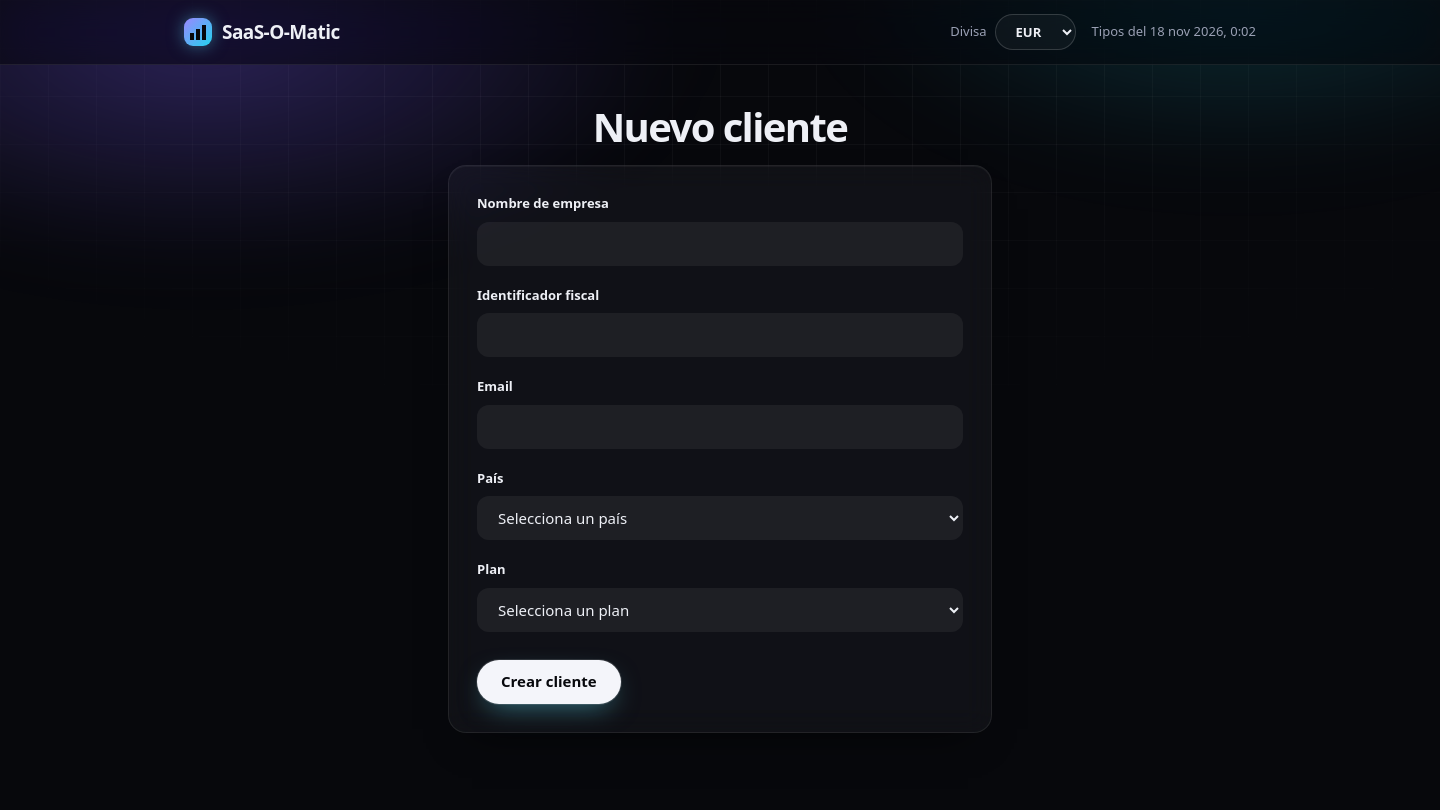
Layout › la divisa elegida persiste al navegar entre dos rutas
Select "USD" in the dropdown labelled "Divisa" at (1035, 32), box [995, 14, 1076, 50]
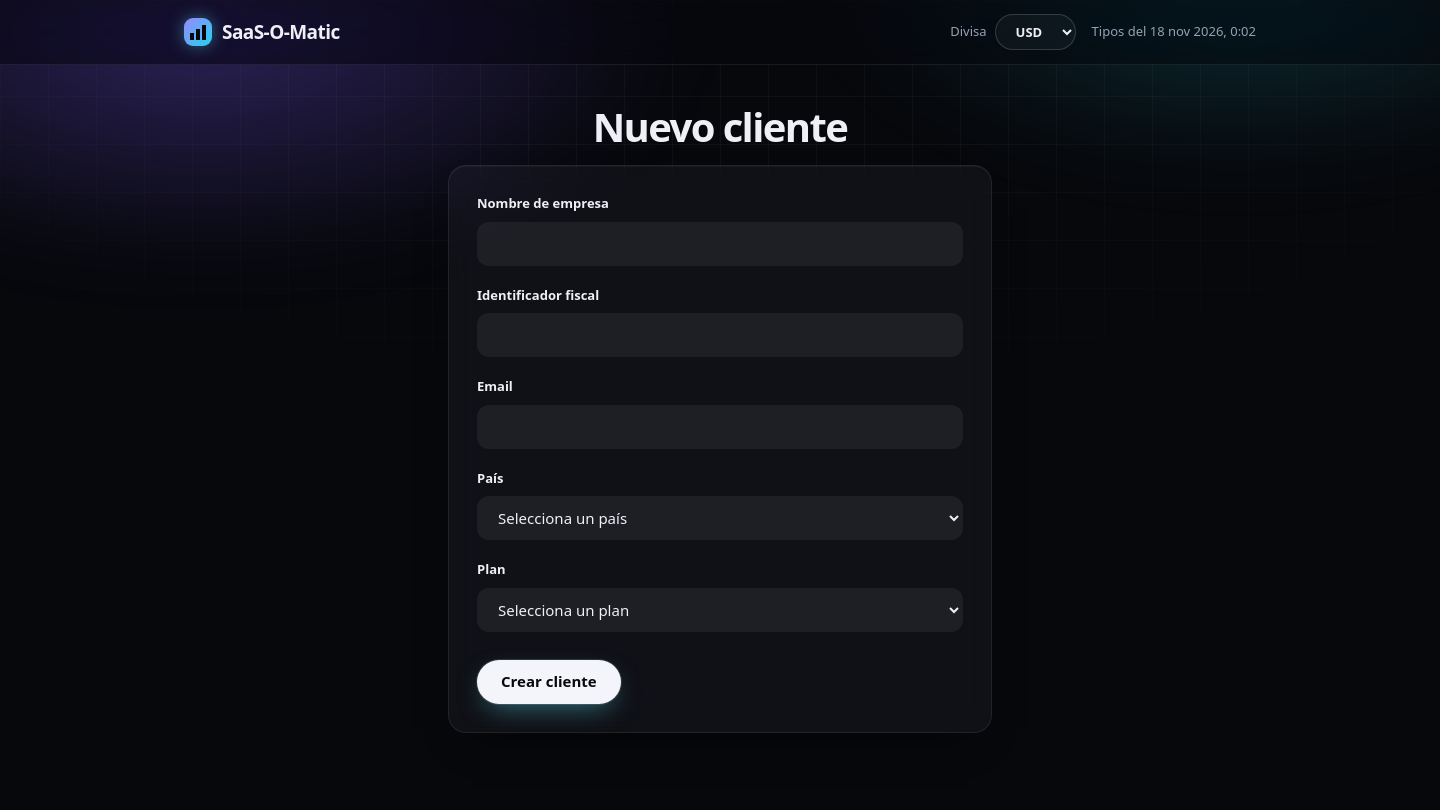
Click the link "SaaS-O-Matic".
click(281, 32)  # box [222, 19, 340, 45]
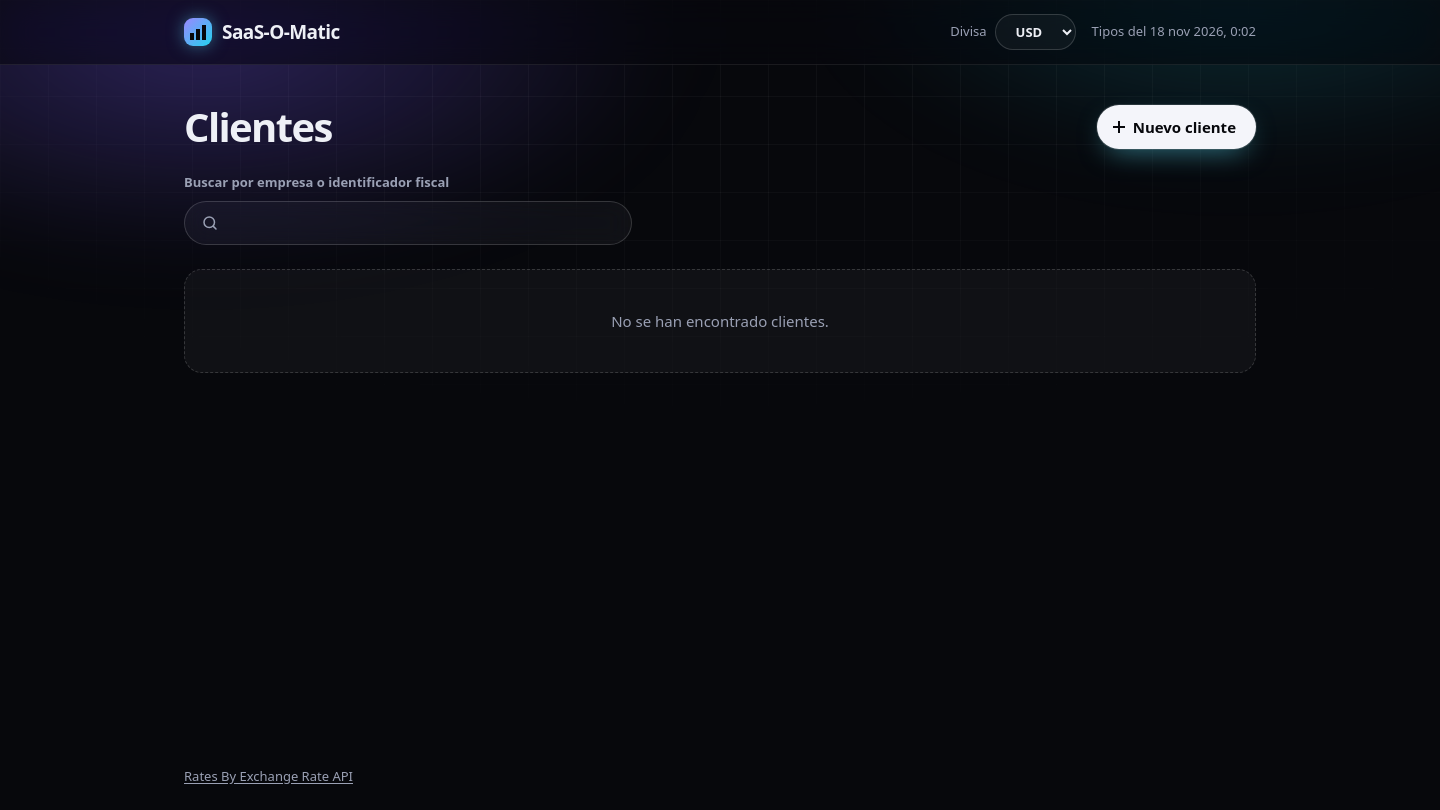
Now the heading "Clientes" is shown, box [184, 105, 332, 149]
